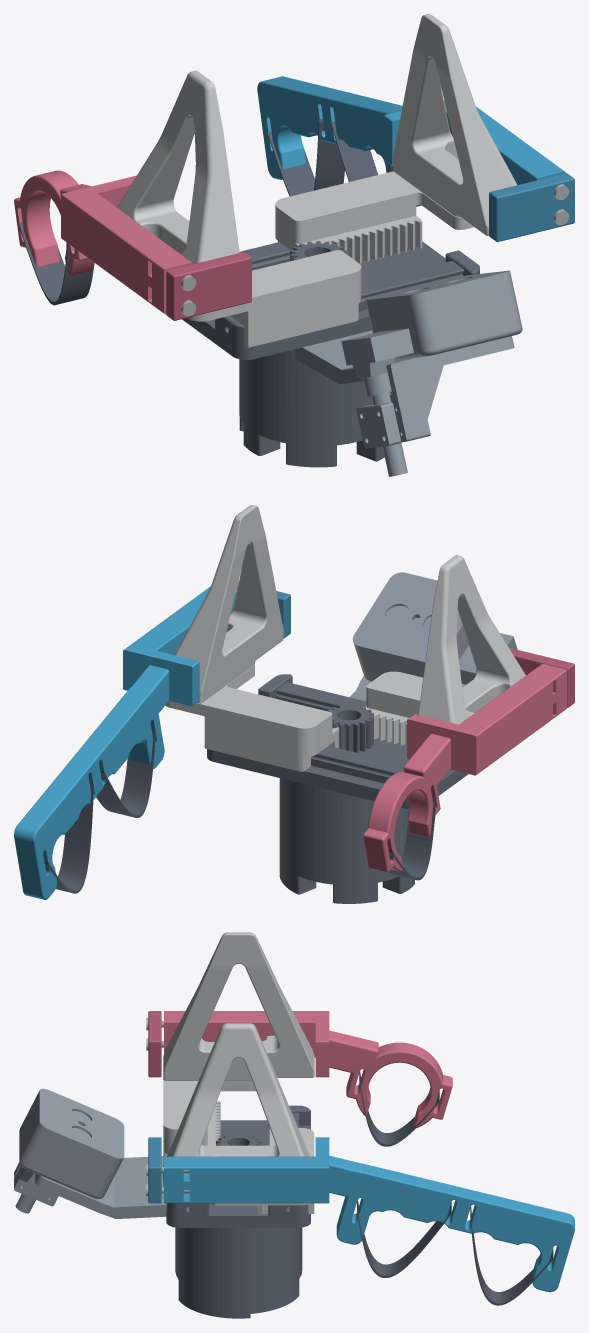
File: yam_open.glb
3 renders of one model, top to bottom at view 1: azimuth 30°, elevation 25°; view 2: azimuth 150°, elevation 25°; view 3: azimuth 270°, elevation 25°, orthographic. The views are drawn at different scales.
Visible parts, largest first — view 1: tip_right_2, tip_left_1, camera_3, gripper_0, right_thumb_lead_4, right_finger_lead_5, negative_jaw_cap_6, positive_jaw_cap_7, reference_finger_strap_lower_10, reference_thumb_strap_8, reference_finger_strap_upper_9; view 2: gripper_0, tip_right_2, right_finger_lead_5, right_thumb_lead_4, tip_left_1, camera_3, reference_finger_strap_lower_10, reference_finger_strap_upper_9, reference_thumb_strap_8, negative_jaw_cap_6; view 3: right_finger_lead_5, gripper_0, camera_3, tip_left_1, tip_right_2, right_thumb_lead_4, reference_finger_strap_upper_9, reference_finger_strap_lower_10, negative_jaw_cap_6, positive_jaw_cap_7, reference_thumb_strap_8.
Boxes of the visible parts, x1=… form: tip_right_2: x1=275, y1=14, x2=517, y2=263; tip_left_1: x1=117, y1=70, x2=361, y2=347; camera_3: x1=292, y1=270, x2=522, y2=476; gripper_0: x1=182, y1=241, x2=479, y2=467; right_thumb_lead_4: x1=14, y1=170, x2=192, y2=314; right_finger_lead_5: x1=257, y1=76, x2=565, y2=206; negative_jaw_cap_6: x1=166, y1=252, x2=251, y2=320; positive_jaw_cap_7: x1=489, y1=173, x2=574, y2=242; reference_finger_strap_lower_10: x1=267, y1=118, x2=344, y2=196; reference_thumb_strap_8: x1=18, y1=222, x2=94, y2=305; reference_finger_strap_upper_9: x1=331, y1=121, x2=393, y2=181; gripper_0: x1=207, y1=674, x2=468, y2=903; tip_right_2: x1=165, y1=505, x2=339, y2=771; right_finger_lead_5: x1=14, y1=586, x2=237, y2=899; right_thumb_lead_4: x1=363, y1=663, x2=566, y2=872; tip_left_1: x1=365, y1=555, x2=525, y2=747; camera_3: x1=349, y1=572, x2=517, y2=701; reference_finger_strap_lower_10: x1=44, y1=783, x2=93, y2=893; reference_finger_strap_upper_9: x1=96, y1=731, x2=156, y2=817; reference_thumb_strap_8: x1=388, y1=796, x2=436, y2=880; negative_jaw_cap_6: x1=509, y1=648, x2=574, y2=707; right_finger_lead_5: x1=164, y1=1137, x2=574, y2=1292; gripper_0: x1=166, y1=1105, x2=310, y2=1318; camera_3: x1=14, y1=1088, x2=166, y2=1218; tip_left_1: x1=163, y1=932, x2=314, y2=1163; tip_right_2: x1=163, y1=1023, x2=314, y2=1213; right_thumb_lead_4: x1=164, y1=1011, x2=452, y2=1127; reference_finger_strap_upper_9: x1=357, y1=1200, x2=451, y2=1277; reference_finger_strap_lower_10: x1=470, y1=1207, x2=553, y2=1305; negative_jaw_cap_6: x1=148, y1=1011, x2=161, y2=1077; positive_jaw_cap_7: x1=148, y1=1137, x2=161, y2=1203; reference_thumb_strap_8: x1=359, y1=1071, x2=439, y2=1146.
Bounding box in the file's own units: 0.167 × 0.1552 × 0.252.
